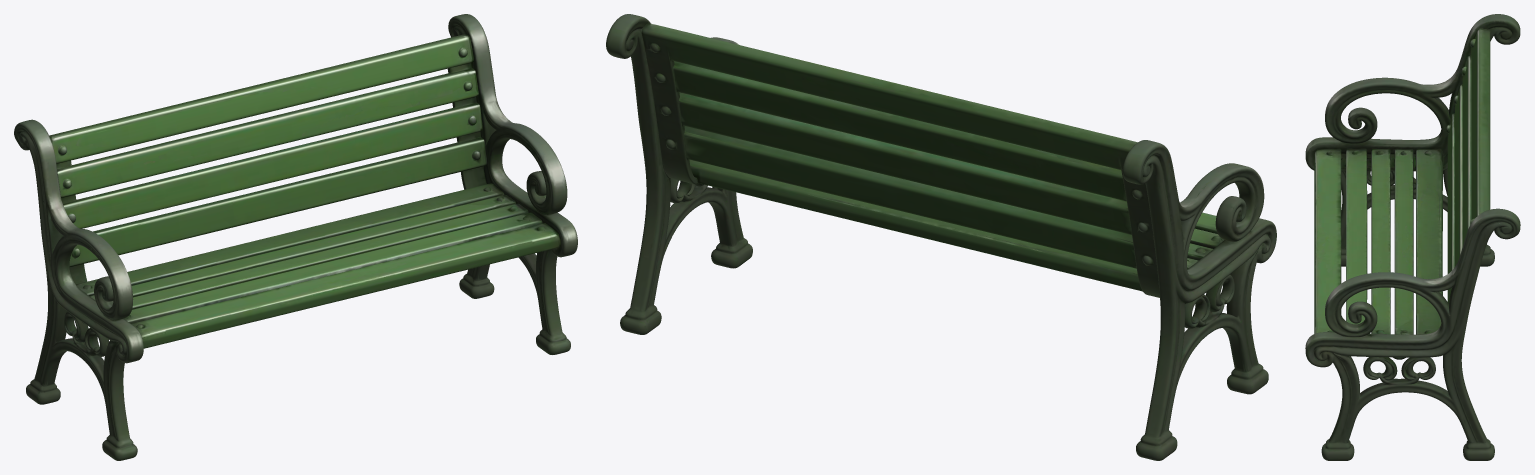
File: A_public_bench_with_green_metal_slats_and_cast-iron_legs.glb
3 renders of one model, left to right at view 1: azimuth 30°, elevation 25°; view 2: azimuth 150°, elevation 25°; view 3: azimuth 270°, elevation 25°, orthographic. The views are drawn at different scales.
Visible parts, largest first — view 1: node_0; view 2: node_0; view 3: node_0.
Part boxes in pixels (x1,y1,x2,y2): node_0: (14, 14, 577, 460); node_0: (606, 14, 1276, 460); node_0: (1305, 14, 1520, 460).
Size of the model in its own units: 1.01 by 0.5645 by 0.4462.
Materials: 1 (1 with a texture image).
